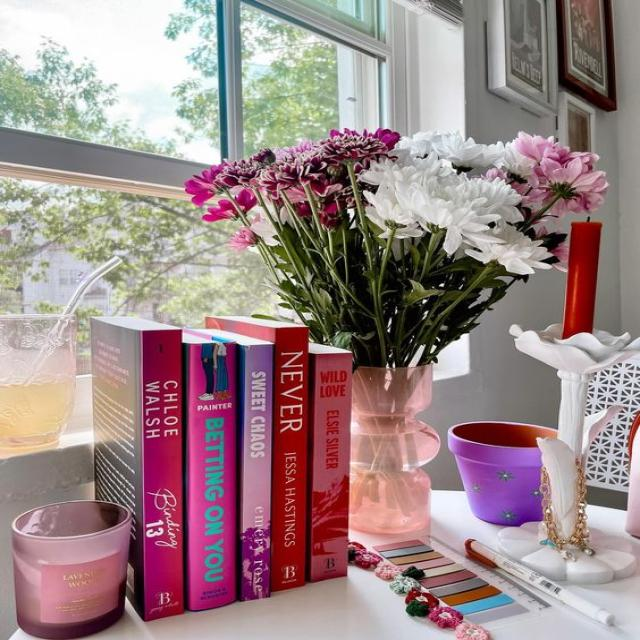book: (200, 329, 272, 600), (185, 331, 236, 610), (141, 330, 186, 615), (309, 344, 351, 581), (275, 328, 306, 587)
candle: (12, 501, 129, 639)
flowers: (185, 129, 607, 511)
